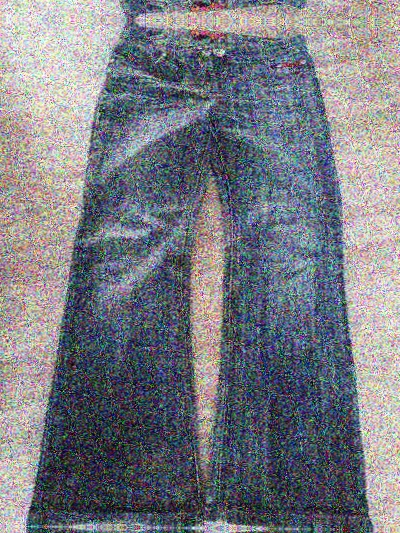Pants: (13, 28, 360, 529), (18, 0, 365, 13), (9, 528, 355, 533)
